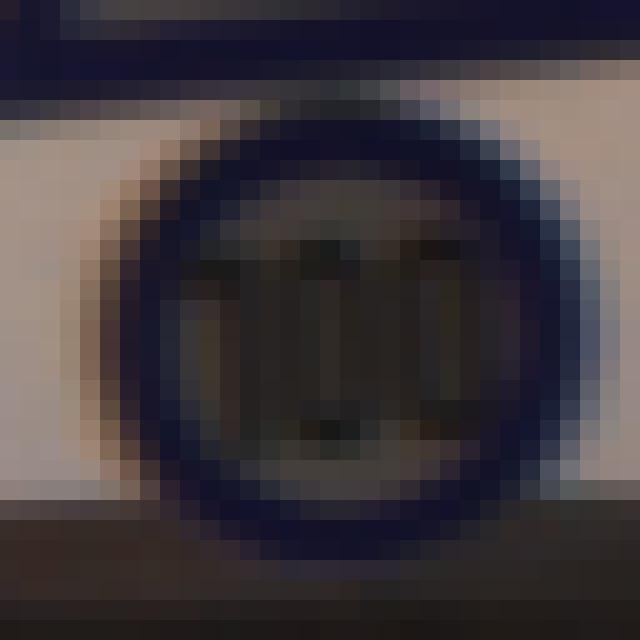SPEED LIMIT 100: (99, 109, 581, 544)
